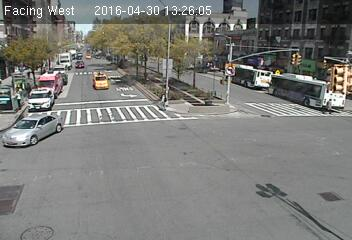neg: (16, 134, 40, 166), (191, 102, 213, 132), (40, 118, 61, 146), (242, 90, 261, 116), (10, 61, 29, 87), (81, 49, 100, 74), (171, 78, 189, 101), (302, 84, 319, 107), (68, 93, 84, 115), (238, 39, 254, 61), (169, 7, 183, 26), (218, 22, 231, 40), (134, 2, 147, 19), (48, 4, 61, 21), (48, 45, 61, 62), (84, 6, 92, 17)
pos: (156, 92, 172, 112), (322, 98, 338, 118)
